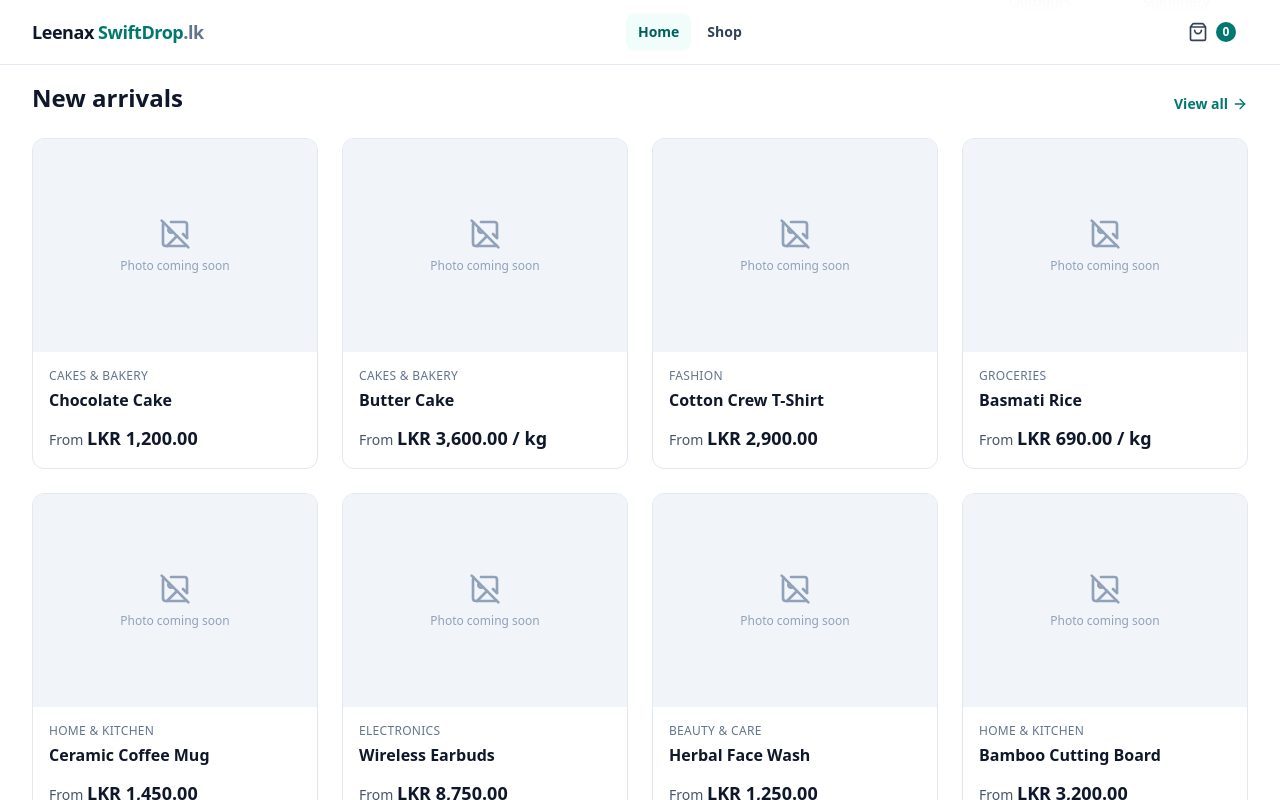
home page › opens a product page when a product is clicked
This screenshot has width=1280, height=800.
(page scrolled)
What coordinates should you click on to do the following:
click the link "Chocolate Cake"
I would click on:
 (111, 400)
Its box is [49, 389, 172, 411].
(page scrolled)
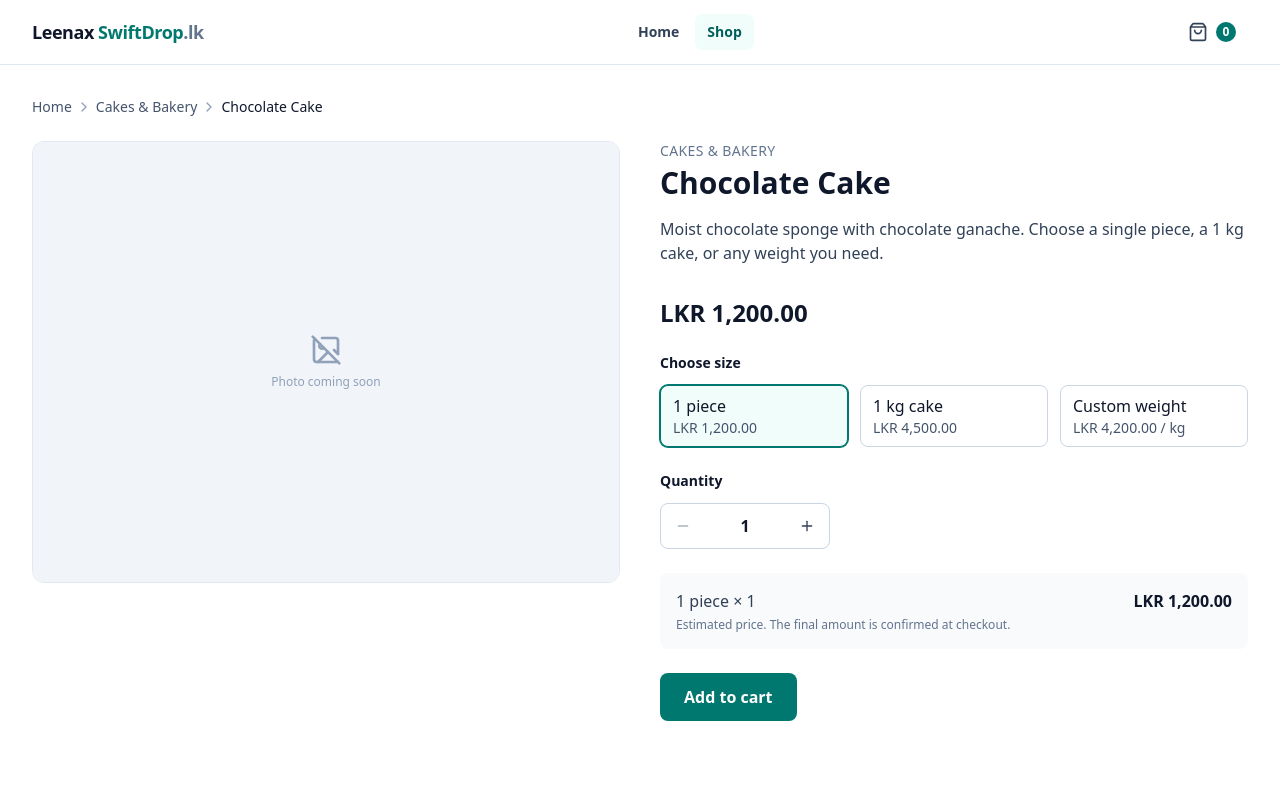
expect the heading "Chocolate Cake" is shown: met, box [660, 162, 891, 203]
